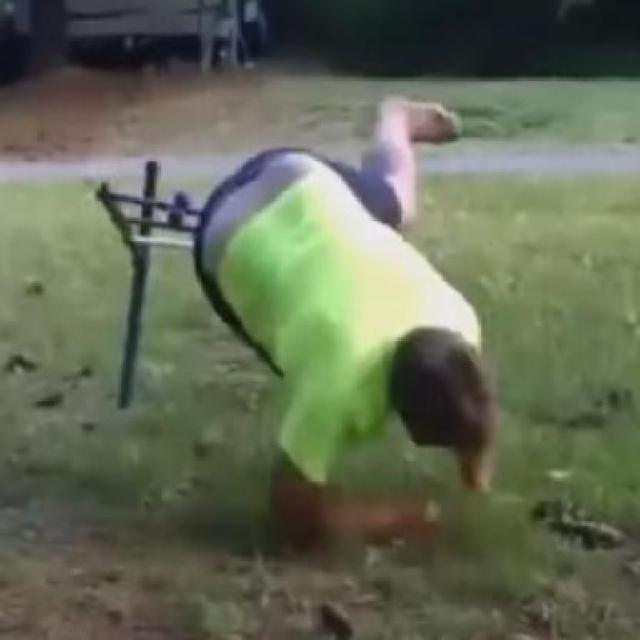fall: (196, 75, 512, 540)
